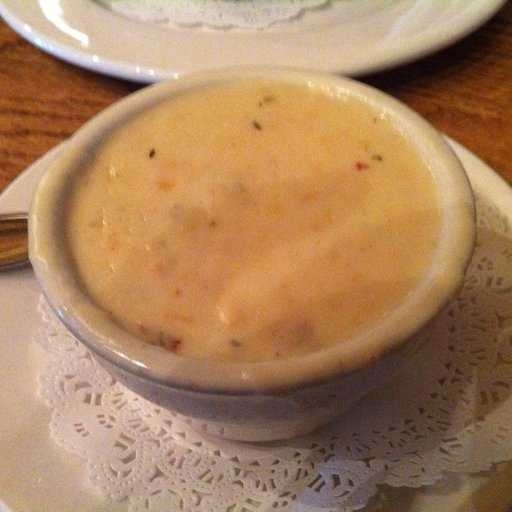soup: (51, 80, 443, 386)
